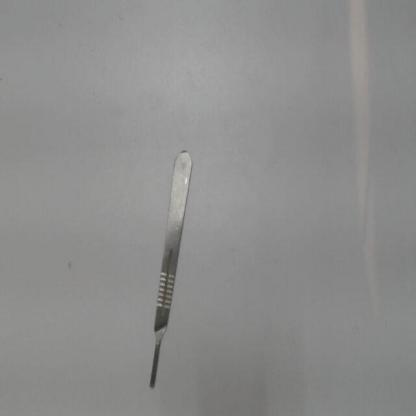No.4 BP Handle: (141, 140, 200, 397)
